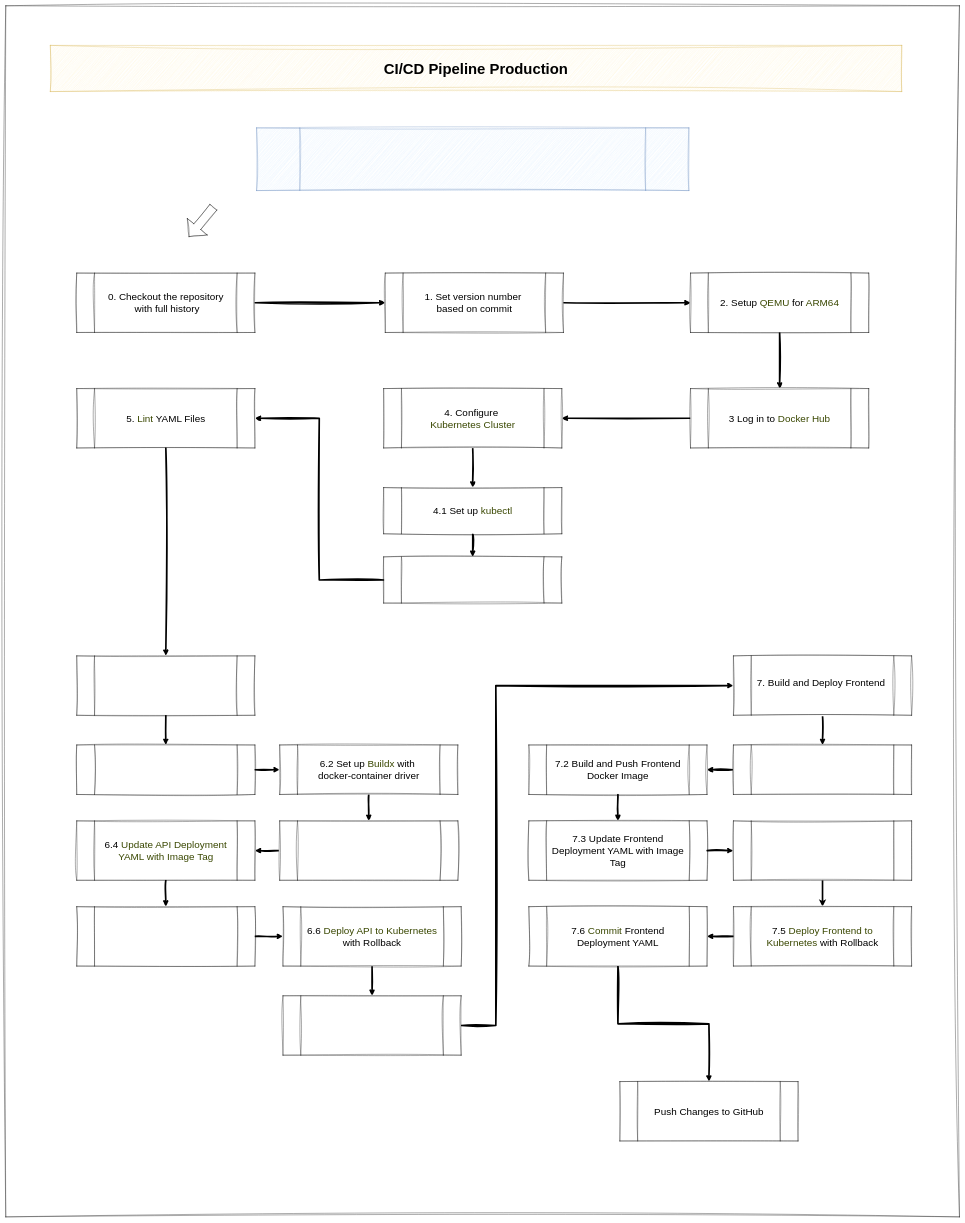
Image size: 965x1223. Some labels were removed from this diagram. The shapes that lost their labels are listed below. From the top down, each one's box as (x1, y1, x2, y2) in pixels, then its label:
(256, 128, 689, 191): Push to main branch
(383, 557, 562, 603): 4.2 Configure Kubernetes
(76, 656, 255, 715): 6. Build and Deploy Backend
(76, 745, 255, 794): 6.1 Clear NuGet Caches
(733, 745, 912, 794): 7.1 Set up Buildx with docker-container driver
(279, 821, 458, 880): 6.3 Build and Push API Docker image for ARM
(733, 821, 912, 880): 7.4 Validate Frontend Deployment YAML
(76, 906, 255, 966): 6.5 Validate API Deployment YAML
(283, 995, 461, 1055): 6.7 Commit Updated API Deployment YAML
